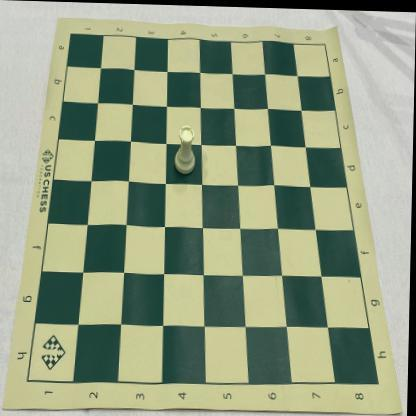white-rook: (175, 124, 197, 174)
